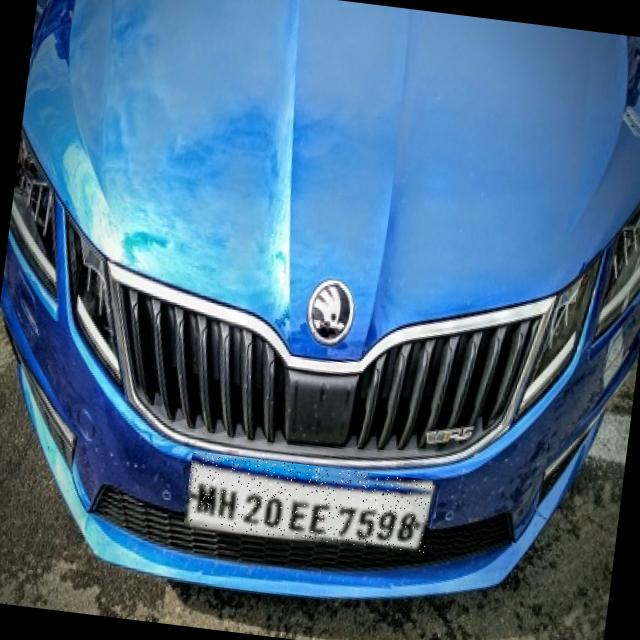Plate: (184, 452, 433, 555)
